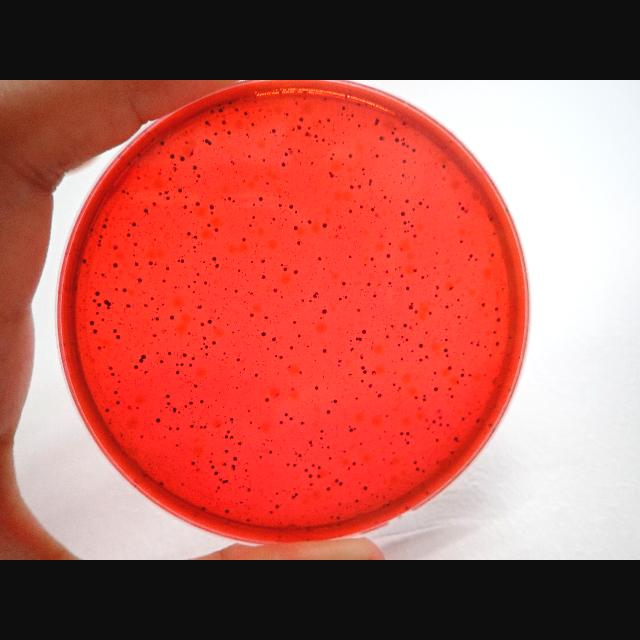colony: (355, 336, 363, 342), (316, 472, 322, 480), (158, 481, 166, 487), (104, 300, 112, 306), (196, 304, 204, 310), (292, 269, 300, 275), (374, 118, 380, 125), (209, 203, 215, 210), (218, 108, 224, 114), (298, 116, 304, 122), (394, 137, 400, 143), (260, 331, 266, 337), (264, 397, 270, 403), (232, 456, 238, 462), (222, 478, 228, 484), (414, 394, 420, 400), (494, 340, 500, 346), (115, 334, 121, 340), (112, 328, 118, 334), (92, 328, 98, 334), (89, 320, 95, 326), (92, 298, 98, 304), (94, 290, 100, 296), (113, 262, 119, 268), (148, 260, 154, 266), (112, 244, 118, 250), (192, 165, 198, 171), (214, 263, 220, 269), (260, 258, 266, 264), (313, 292, 319, 298), (296, 240, 302, 246), (464, 208, 470, 214), (280, 162, 286, 168), (258, 196, 264, 202), (288, 204, 294, 210), (293, 225, 299, 231), (321, 222, 327, 228), (180, 155, 184, 163), (214, 226, 218, 234), (318, 255, 322, 262), (205, 120, 209, 126), (226, 130, 232, 134), (205, 138, 209, 144), (208, 140, 212, 146), (272, 128, 276, 134), (402, 121, 406, 127), (378, 136, 384, 140), (412, 148, 416, 154), (348, 154, 354, 158), (400, 212, 406, 216), (412, 234, 418, 238), (412, 206, 416, 212), (403, 322, 407, 328), (418, 344, 424, 348), (447, 366, 453, 370), (323, 348, 327, 354), (362, 370, 368, 374), (212, 340, 216, 346), (202, 336, 208, 340), (204, 345, 210, 349), (182, 353, 188, 357), (166, 351, 172, 355), (188, 363, 194, 367), (141, 354, 147, 358), (138, 359, 144, 363), (134, 364, 138, 370), (116, 400, 120, 406), (238, 440, 242, 446), (232, 464, 236, 470), (214, 470, 218, 476), (191, 460, 195, 466), (200, 507, 206, 511), (274, 504, 280, 508), (268, 510, 274, 514), (308, 474, 314, 478), (292, 463, 298, 467), (326, 486, 330, 492), (334, 479, 340, 483), (338, 482, 344, 486), (348, 428, 354, 432), (434, 438, 440, 442), (476, 417, 480, 423), (434, 386, 438, 392), (392, 382, 396, 388), (460, 372, 464, 378), (468, 372, 472, 378), (415, 466, 419, 472), (354, 499, 360, 503), (96, 346, 102, 350), (126, 304, 132, 308), (96, 303, 102, 307), (122, 288, 128, 292), (82, 259, 88, 263), (137, 278, 143, 282), (155, 316, 159, 322), (170, 314, 174, 320), (134, 262, 140, 266), (333, 398, 337, 404), (326, 410, 332, 414), (152, 333, 158, 337), (208, 319, 212, 325), (250, 312, 254, 318), (234, 288, 238, 294), (180, 258, 184, 264), (177, 188, 183, 192), (184, 204, 188, 210), (170, 153, 174, 159), (168, 176, 172, 182), (128, 160, 132, 166), (207, 222, 211, 228), (194, 234, 198, 240), (186, 232, 192, 236), (242, 236, 246, 242), (212, 256, 216, 262), (261, 274, 265, 280), (273, 287, 277, 293), (283, 266, 287, 272), (342, 280, 346, 286), (372, 294, 378, 298), (388, 280, 392, 286), (405, 286, 409, 292), (490, 252, 494, 258), (489, 216, 493, 222), (442, 163, 446, 169), (265, 180, 269, 186), (228, 196, 232, 202), (252, 214, 256, 220), (350, 184, 354, 190), (494, 306, 498, 312), (496, 317, 500, 323), (492, 330, 496, 336), (481, 302, 485, 308), (371, 256, 374, 262), (165, 190, 168, 196), (456, 214, 459, 220), (252, 202, 255, 208), (228, 101, 232, 105), (210, 110, 214, 114), (222, 120, 226, 124), (214, 132, 218, 136), (251, 122, 255, 126), (244, 111, 248, 115), (297, 126, 301, 130), (314, 134, 318, 138), (294, 101, 298, 105), (318, 120, 322, 124), (342, 106, 346, 110), (351, 113, 355, 117), (348, 118, 352, 122), (356, 102, 360, 106), (402, 137, 406, 141), (402, 142, 406, 146), (406, 144, 410, 148), (402, 159, 406, 163), (375, 154, 379, 158), (369, 179, 373, 183), (368, 182, 372, 186), (405, 199, 409, 203), (419, 201, 423, 205), (425, 205, 429, 209), (403, 221, 407, 225), (383, 195, 387, 199), (371, 208, 375, 212), (349, 209, 353, 213), (388, 242, 392, 246), (387, 254, 391, 258), (348, 255, 352, 259), (413, 269, 417, 273), (435, 286, 439, 290), (434, 294, 438, 298), (445, 305, 449, 309), (409, 305, 413, 309), (414, 310, 418, 314), (428, 311, 432, 315), (444, 338, 448, 342), (444, 348, 448, 352), (419, 358, 423, 362), (405, 338, 409, 342), (386, 334, 390, 338), (362, 330, 366, 334), (350, 347, 354, 351), (360, 356, 364, 360), (361, 366, 365, 370), (371, 370, 375, 374), (368, 384, 372, 388), (348, 372, 352, 376), (315, 386, 319, 390), (297, 334, 301, 338), (290, 345, 294, 349), (279, 356, 283, 360), (274, 354, 278, 358), (272, 338, 276, 342), (298, 370, 302, 374), (236, 358, 240, 362), (175, 363, 179, 367), (176, 370, 180, 374), (194, 384, 198, 388), (160, 359, 164, 363), (156, 351, 160, 355), (109, 366, 113, 370), (111, 373, 115, 377), (114, 390, 118, 394), (105, 408, 109, 412), (156, 418, 160, 422), (140, 434, 144, 438), (176, 427, 180, 431), (166, 394, 170, 398), (189, 401, 193, 405), (184, 404, 188, 408), (200, 400, 204, 404), (190, 424, 194, 428), (225, 435, 229, 439), (230, 436, 234, 440), (227, 430, 231, 434), (230, 417, 234, 421), (225, 449, 229, 453), (223, 462, 227, 466), (211, 465, 215, 469), (217, 485, 221, 489), (225, 509, 229, 513), (246, 518, 250, 522), (292, 494, 296, 498), (310, 482, 314, 486), (304, 468, 308, 472), (286, 462, 290, 466), (298, 454, 302, 458), (294, 452, 298, 456), (311, 463, 315, 467), (317, 465, 321, 469), (352, 461, 356, 465), (308, 440, 312, 444), (310, 443, 314, 447), (300, 421, 304, 425), (289, 417, 293, 421), (280, 420, 284, 424), (348, 424, 352, 428), (400, 432, 404, 436), (406, 432, 410, 436), (432, 419, 436, 423), (439, 423, 443, 427), (446, 423, 450, 427), (461, 417, 465, 421), (467, 412, 471, 416), (422, 398, 426, 402), (378, 393, 382, 397), (398, 386, 402, 390), (462, 352, 466, 356), (488, 353, 492, 357), (413, 460, 417, 464), (364, 486, 368, 490), (382, 495, 386, 499), (378, 472, 382, 476), (338, 502, 342, 506), (336, 515, 340, 519), (120, 433, 124, 437), (108, 418, 112, 422), (108, 421, 112, 425), (101, 318, 105, 322), (95, 311, 99, 315), (106, 306, 110, 310), (115, 287, 119, 291), (150, 296, 154, 300), (156, 307, 160, 311), (162, 279, 166, 283), (165, 266, 169, 270), (355, 396, 359, 400), (284, 413, 288, 417), (259, 455, 263, 459), (200, 322, 204, 326), (264, 316, 268, 320), (204, 280, 208, 284), (187, 285, 191, 289), (196, 272, 200, 276), (133, 242, 137, 246), (97, 243, 101, 247), (98, 239, 102, 243), (99, 234, 103, 238), (90, 228, 94, 232), (102, 224, 106, 228), (105, 218, 109, 222), (132, 222, 136, 226), (144, 209, 148, 213), (152, 202, 156, 206), (122, 190, 126, 194), (158, 192, 162, 196), (166, 196, 170, 200), (196, 202, 200, 206), (197, 174, 201, 178), (193, 245, 197, 249), (280, 295, 284, 299), (293, 320, 297, 324), (322, 310, 326, 314), (344, 295, 348, 299), (338, 297, 342, 301), (357, 308, 361, 312), (367, 282, 371, 286), (492, 232, 496, 236), (486, 214, 490, 218), (461, 206, 465, 210), (458, 202, 462, 206), (248, 154, 252, 158), (262, 158, 266, 162), (284, 152, 288, 156), (287, 147, 291, 151), (321, 138, 325, 142), (316, 139, 320, 143), (190, 152, 194, 156), (160, 141, 164, 145), (248, 223, 252, 227), (278, 203, 282, 207), (272, 217, 276, 221), (308, 220, 312, 224), (330, 157, 334, 161), (331, 152, 335, 156), (305, 132, 309, 136), (357, 184, 361, 188), (247, 507, 251, 511), (69, 304, 73, 308), (258, 109, 262, 113), (411, 224, 414, 228), (401, 274, 404, 278), (456, 298, 459, 302), (411, 302, 414, 306), (391, 324, 394, 328), (401, 357, 404, 361), (255, 373, 258, 377), (191, 356, 195, 359), (180, 362, 183, 366), (144, 371, 148, 374), (136, 406, 140, 409), (204, 424, 206, 430), (245, 468, 248, 472), (248, 486, 250, 492), (328, 456, 332, 459), (321, 429, 324, 433), (326, 445, 329, 449), (453, 436, 457, 439), (490, 422, 492, 428), (451, 394, 454, 398), (471, 341, 474, 345), (476, 343, 479, 347), (426, 427, 429, 431), (371, 492, 374, 496), (102, 273, 105, 277), (249, 421, 253, 424), (269, 451, 273, 454), (115, 276, 118, 280), (188, 330, 190, 336), (227, 322, 230, 326), (192, 290, 195, 294), (128, 232, 130, 238), (174, 166, 176, 172), (158, 172, 162, 175), (210, 211, 213, 215), (298, 148, 300, 154), (311, 160, 313, 166), (232, 199, 235, 203), (294, 210, 298, 213), (330, 175, 334, 178), (245, 99, 248, 103), (185, 197, 188, 200), (218, 103, 220, 107), (236, 108, 238, 112), (246, 132, 248, 136), (270, 130, 272, 134), (286, 113, 288, 117), (292, 128, 294, 132), (308, 126, 310, 130), (328, 118, 330, 122), (341, 112, 343, 116), (358, 124, 360, 128), (365, 102, 367, 106), (394, 127, 396, 131), (392, 131, 394, 135), (362, 167, 364, 171), (402, 173, 404, 177), (388, 200, 392, 202), (359, 206, 363, 208), (386, 270, 388, 274), (422, 275, 424, 279), (434, 266, 436, 270), (448, 274, 450, 278), (450, 286, 452, 290), (458, 315, 460, 319), (465, 316, 467, 320), (415, 322, 417, 326), (424, 332, 428, 334), (426, 355, 428, 359), (398, 343, 400, 347), (338, 360, 342, 362), (323, 374, 325, 378), (307, 344, 309, 348), (288, 365, 290, 369), (224, 352, 226, 356), (203, 342, 205, 346), (206, 352, 208, 356), (168, 428, 172, 430), (173, 408, 177, 410), (200, 425, 202, 429), (211, 452, 213, 456), (220, 477, 222, 481), (296, 492, 298, 496), (282, 488, 284, 492), (348, 466, 350, 470), (360, 442, 362, 446), (342, 450, 346, 452), (392, 452, 396, 454), (386, 414, 388, 418), (422, 394, 426, 396), (457, 379, 459, 383), (448, 388, 452, 390), (464, 384, 468, 386), (462, 367, 464, 371), (478, 340, 480, 344), (484, 344, 486, 348), (438, 416, 442, 418), (422, 469, 424, 473), (436, 460, 438, 464), (361, 462, 363, 466), (376, 495, 378, 499), (388, 488, 392, 490), (330, 516, 334, 518), (238, 486, 242, 488), (234, 474, 236, 478), (247, 474, 249, 478), (182, 483, 184, 487), (149, 462, 151, 466), (178, 410, 180, 414), (74, 286, 78, 288), (94, 272, 98, 274), (144, 304, 148, 306), (162, 303, 164, 307), (180, 308, 182, 312), (132, 254, 136, 256), (314, 358, 316, 362), (271, 438, 273, 442), (119, 322, 121, 326), (174, 332, 176, 336), (215, 308, 217, 312), (232, 330, 234, 334), (251, 292, 253, 296), (218, 316, 220, 320), (224, 287, 226, 291), (194, 280, 196, 284), (126, 192, 130, 194), (138, 153, 140, 157), (160, 168, 162, 172), (238, 268, 240, 272), (251, 260, 253, 264), (301, 300, 305, 302), (308, 300, 312, 302), (280, 264, 284, 266), (323, 267, 325, 271), (320, 316, 322, 320), (460, 240, 462, 244), (470, 254, 472, 258), (468, 257, 470, 261), (474, 258, 478, 260), (274, 134, 278, 136), (282, 133, 284, 137), (186, 140, 188, 144), (328, 172, 332, 174), (342, 140, 344, 144), (328, 142, 330, 146), (323, 124, 325, 128), (324, 97, 326, 101), (154, 238, 156, 242), (128, 228, 130, 232), (154, 262, 156, 266), (151, 266, 153, 270), (152, 422, 154, 426), (244, 178, 246, 182), (264, 114, 266, 118), (223, 105, 225, 108), (404, 230, 406, 233), (406, 230, 409, 232), (411, 350, 414, 352), (361, 380, 364, 382), (236, 386, 238, 389), (200, 348, 203, 350), (240, 501, 242, 504), (294, 486, 296, 489), (288, 491, 290, 494), (320, 436, 322, 439), (406, 442, 409, 444), (384, 431, 386, 434), (451, 452, 454, 454), (396, 390, 399, 392), (359, 481, 361, 484), (235, 478, 238, 480), (165, 456, 168, 458), (175, 286, 178, 288), (331, 400, 334, 402), (258, 426, 260, 429), (190, 210, 192, 213), (138, 177, 140, 180), (174, 162, 176, 165), (137, 165, 139, 168), (202, 261, 205, 263), (233, 162, 235, 165), (279, 195, 281, 198), (414, 160, 416, 163), (181, 255, 183, 258), (208, 124, 210, 126), (363, 173, 365, 175), (414, 176, 416, 178), (423, 198, 425, 200), (408, 221, 410, 223), (374, 206, 376, 208), (354, 200, 356, 202), (359, 212, 361, 214), (353, 220, 355, 222), (373, 220, 375, 222), (384, 227, 386, 229), (381, 190, 383, 192), (364, 264, 366, 266), (374, 266, 376, 268), (351, 256, 353, 258), (395, 268, 397, 270), (426, 275, 428, 277), (436, 252, 438, 254), (459, 323, 461, 325), (445, 328, 447, 330), (446, 354, 448, 356), (401, 336, 403, 338), (350, 340, 352, 342), (349, 343, 351, 345), (338, 365, 340, 367), (243, 368, 245, 370), (239, 372, 241, 374), (226, 357, 228, 359), (118, 380, 120, 382), (176, 444, 178, 446), (168, 402, 170, 404), (166, 406, 168, 408), (211, 434, 213, 436), (231, 421, 233, 423), (225, 421, 227, 423), (210, 460, 212, 462), (216, 490, 218, 492), (243, 485, 245, 487), (236, 502, 238, 504), (276, 493, 278, 495), (270, 500, 272, 502), (321, 447, 323, 449), (354, 428, 356, 430), (404, 438, 406, 440), (375, 391, 377, 393), (394, 372, 396, 374), (434, 372, 436, 374), (446, 394, 448, 396), (432, 378, 433, 382), (245, 478, 247, 480), (164, 436, 166, 438), (160, 410, 162, 412), (103, 346, 105, 348), (152, 318, 154, 320), (248, 410, 250, 412), (267, 440, 269, 442), (265, 438, 267, 440), (207, 406, 209, 408), (184, 374, 186, 376), (158, 339, 160, 341), (151, 342, 153, 344), (150, 342, 152, 344), (123, 308, 125, 310), (187, 344, 189, 346), (214, 311, 216, 313), (178, 260, 180, 262), (147, 213, 149, 215), (196, 180, 198, 182), (194, 250, 196, 252), (205, 266, 207, 268), (301, 290, 303, 292), (312, 322, 314, 324), (300, 162, 302, 164), (285, 135, 287, 137), (231, 160, 233, 162), (235, 171, 237, 173), (224, 198, 226, 200), (284, 191, 286, 193), (335, 176, 337, 178), (342, 131, 344, 133), (334, 142, 336, 144), (331, 140, 333, 142), (333, 124, 335, 126), (332, 123, 334, 125), (333, 128, 335, 130), (200, 243, 202, 245), (197, 244, 199, 246), (198, 241, 200, 243), (188, 250, 190, 252), (184, 254, 186, 256), (178, 257, 180, 259), (484, 374, 486, 376), (244, 504, 246, 506), (221, 146, 223, 148), (371, 221, 372, 223), (174, 411, 176, 412), (390, 195, 390, 197), (392, 197, 392, 199), (400, 266, 400, 268), (286, 490, 286, 492), (392, 360, 392, 362), (228, 296, 228, 298)
